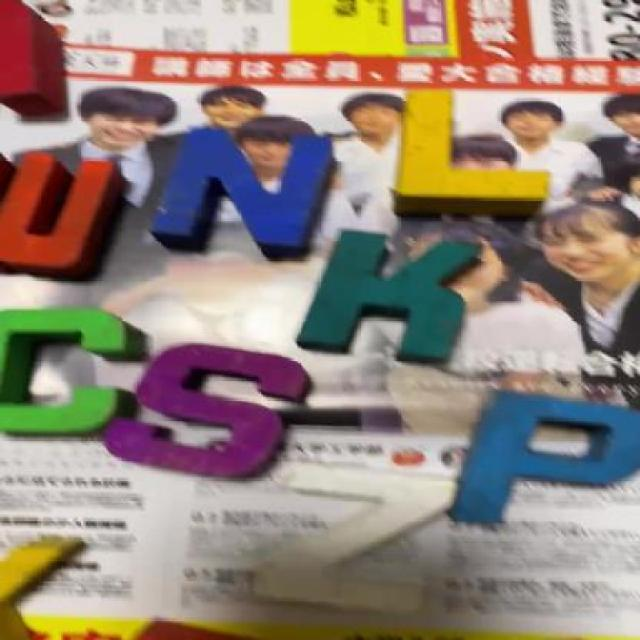K: (307, 231, 493, 366)
L: (384, 87, 556, 216)
N: (165, 129, 342, 256)
P: (443, 392, 634, 517)
S: (116, 343, 315, 485)
Z: (240, 456, 448, 607)
